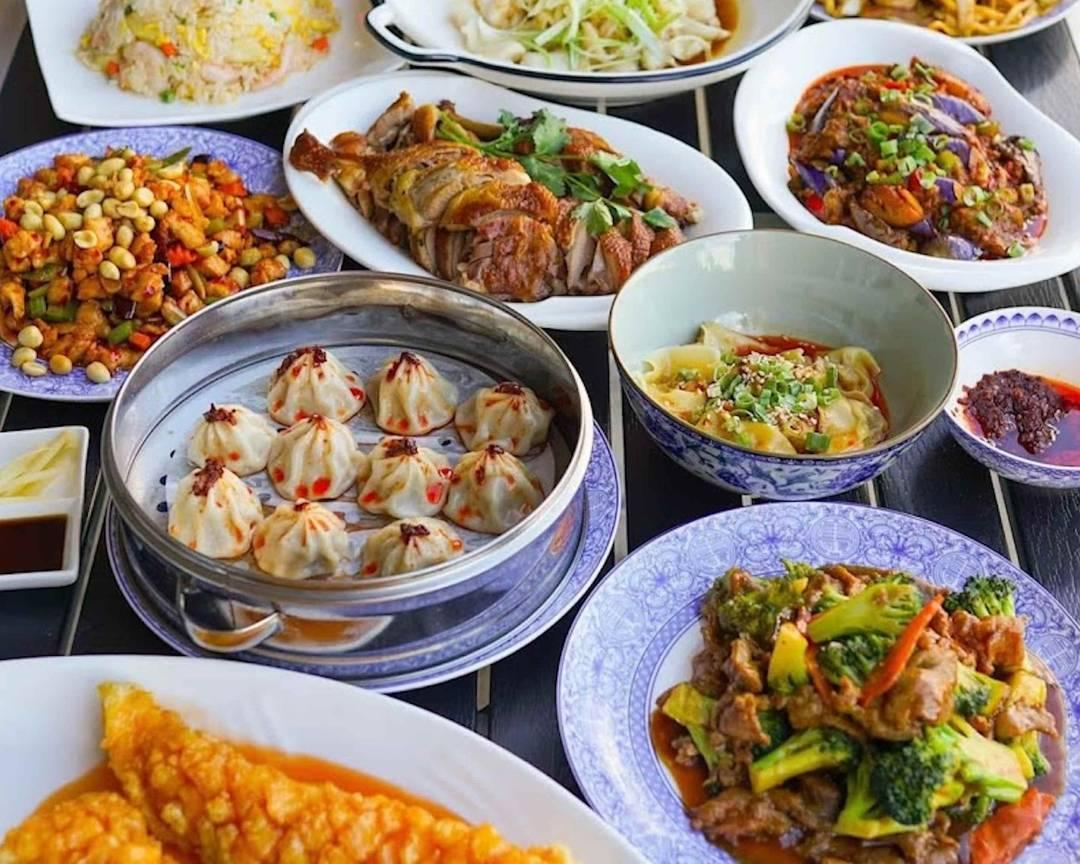Braised Crucian Carp: (558, 500, 1080, 853), (101, 273, 602, 603), (283, 68, 736, 327), (736, 18, 1080, 292), (610, 229, 955, 499), (3, 123, 338, 394)
